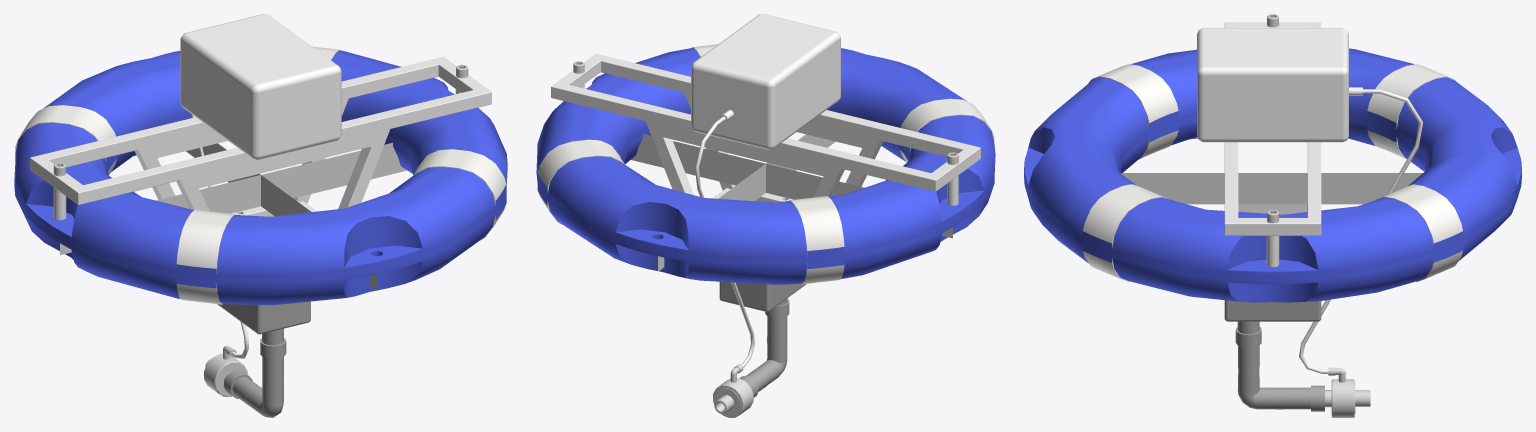
The model's file is mycrofish.glb.
3 views of the same model, side by side, from view 1: azimuth 30°, elevation 25°; view 2: azimuth 150°, elevation 25°; view 3: azimuth 270°, elevation 25° (orthographic). The views are drawn at different scales.
Visible parts, largest first — view 1: MVP Kecil Agustus 2021; view 2: MVP Kecil Agustus 2021; view 3: MVP Kecil Agustus 2021.
Boxes of the visible parts, left/top/right/bottom form: MVP Kecil Agustus 2021: left=14, top=14, right=507, bottom=417; MVP Kecil Agustus 2021: left=536, top=14, right=995, bottom=417; MVP Kecil Agustus 2021: left=1024, top=14, right=1521, bottom=417.
Bounding box in the file's own units: 7.35 × 6 × 7.35.
